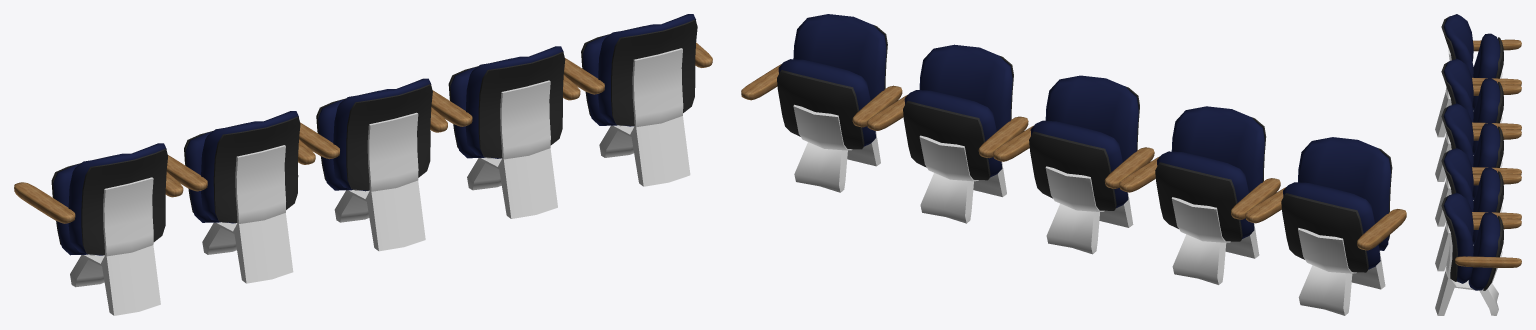
File: conference chair.fbx
3 renders of one model, left to right at view 1: azimuth 30°, elevation 25°; view 2: azimuth 150°, elevation 25°; view 3: azimuth 270°, elevation 25°, orthographic. The views are drawn at different scales.
Parts seen in each view (by area): view 1: Cube.003; view 2: Cube.003; view 3: Cube.003.
Part boxes in pixels (left/top/right/bottom): Cube.003: left=14, top=14, right=712, bottom=315; Cube.003: left=741, top=14, right=1406, bottom=315; Cube.003: left=1435, top=14, right=1521, bottom=315.
Bounding box in the file's own units: 1324 × 293 × 218.
Materials: 4 (1 with a texture image).
